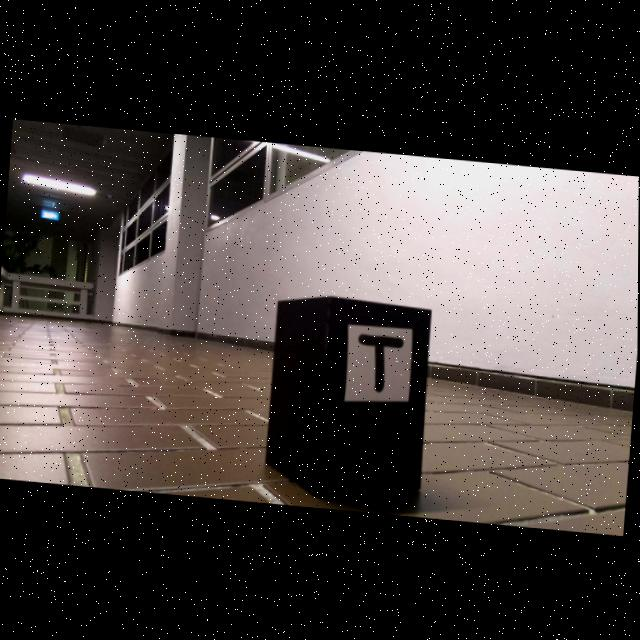T: (359, 332, 404, 389)
